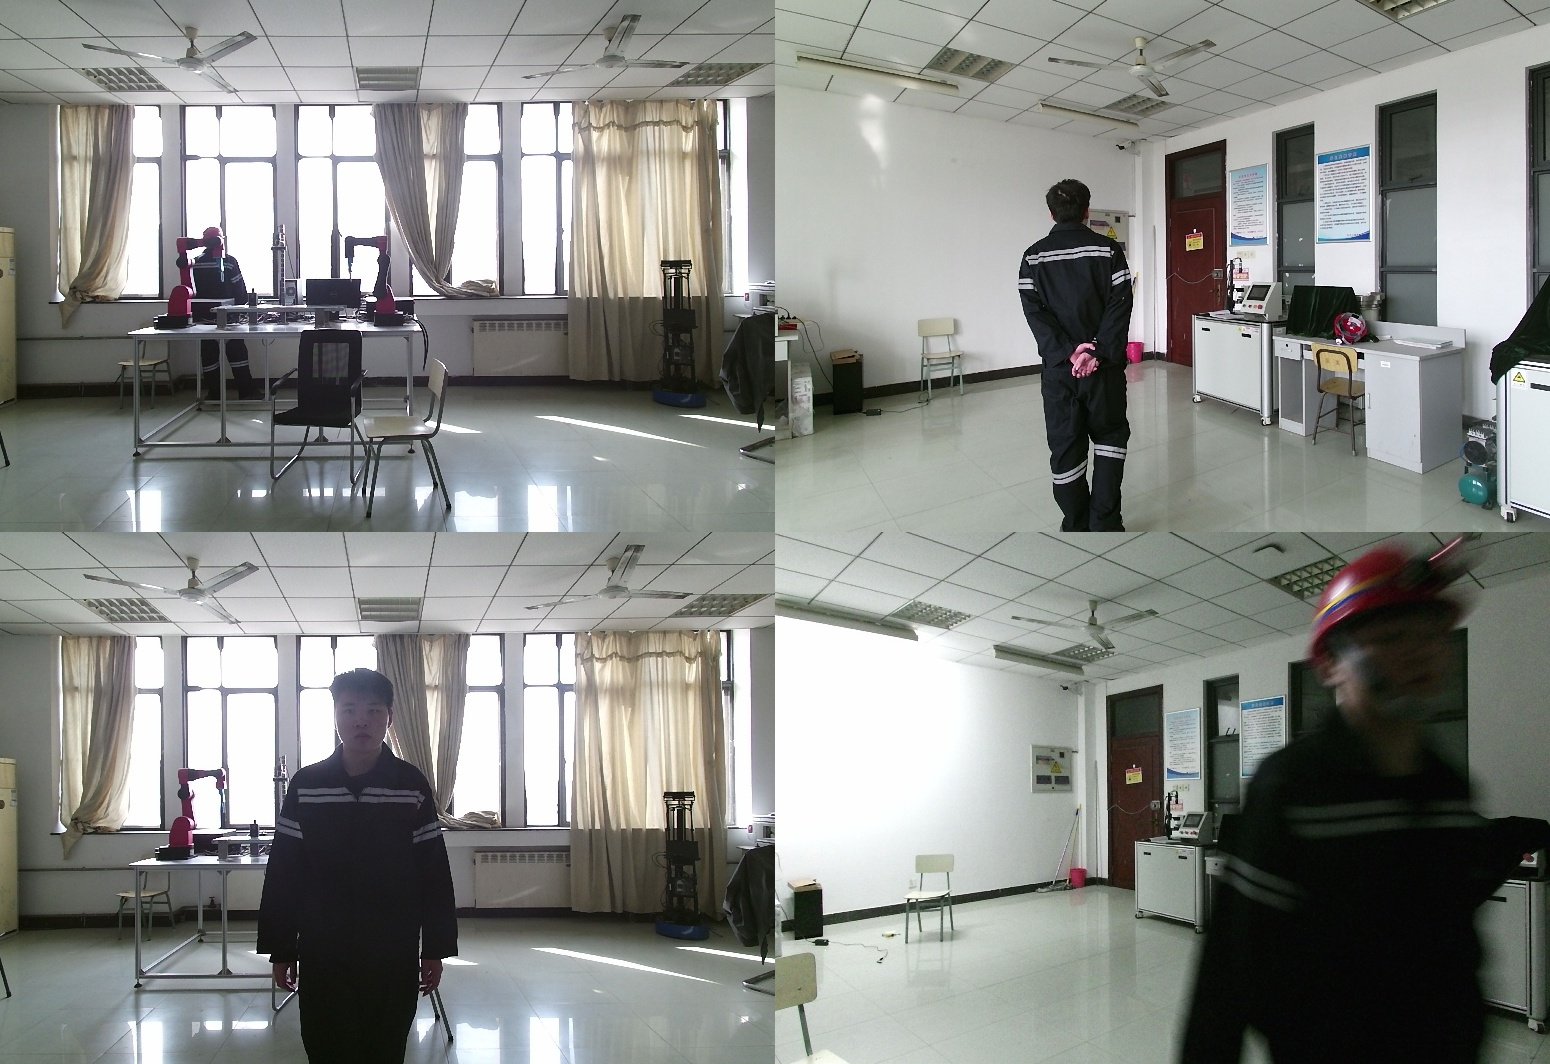person: (1175, 558, 1476, 1064), (267, 667, 476, 1064), (1015, 178, 1147, 532), (185, 228, 262, 407)
